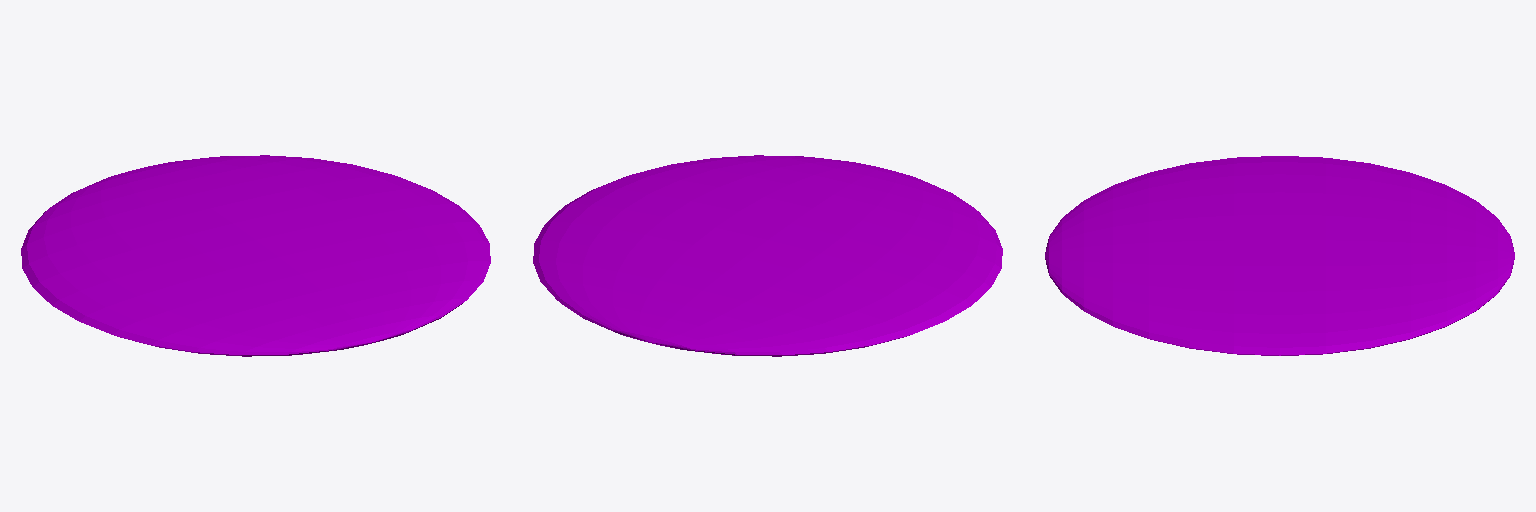
Rendered from portal.obj.
The picture shows the model from 3 angles: view 1: azimuth 30°, elevation 25°; view 2: azimuth 150°, elevation 25°; view 3: azimuth 270°, elevation 25°; orthographic projection.
Visible parts, largest first — view 1: Sphere_Sphere.003; view 2: Sphere_Sphere.003; view 3: Sphere_Sphere.003.
Part boxes in pixels (left/top/right/bottom): Sphere_Sphere.003: left=21, top=155, right=490, bottom=356; Sphere_Sphere.003: left=533, top=155, right=1002, bottom=356; Sphere_Sphere.003: left=1045, top=156, right=1514, bottom=355.
Bounding box in the file's own units: 4 × 0.3 × 4.